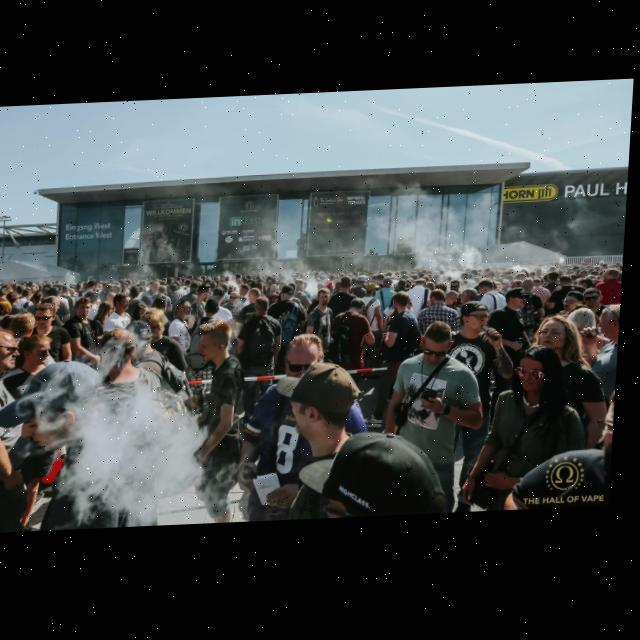vape: (486, 328, 503, 346), (590, 332, 607, 343)
